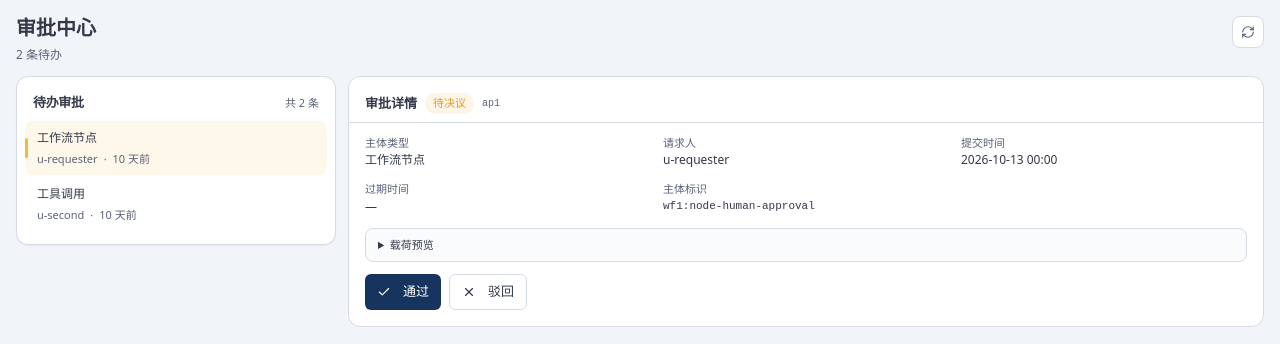
Test: Approvals › 通过 → 列表刷新（该条离开待办）
Click the button with test id "approval-approve".
click(403, 292)  # box left=365, top=274, right=441, bottom=310
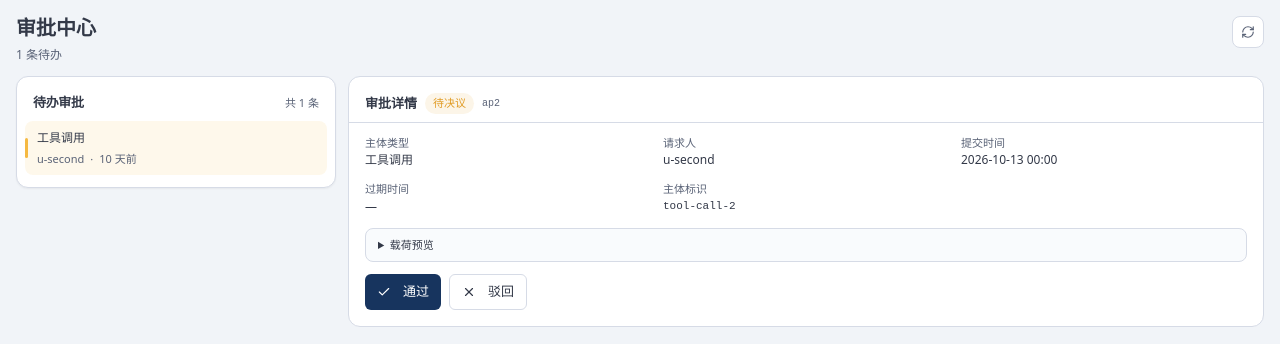
Check: the button with test id "approval-item-ap2" is shown, box left=25, top=120, right=327, bottom=175
Check: the button with test id "approval-item-ap1" is gone
